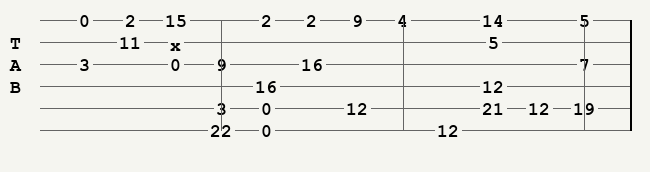0: (79, 12, 94, 28), (170, 56, 185, 72), (261, 100, 276, 116), (261, 122, 276, 138)
11: (119, 34, 145, 50)
12: (346, 100, 372, 116), (437, 122, 463, 138), (482, 78, 508, 94), (528, 100, 554, 116)
14: (482, 12, 508, 28)
15: (165, 12, 191, 28)
16: (255, 78, 281, 94), (301, 56, 327, 72)
19: (573, 100, 599, 116)
2: (125, 12, 140, 28), (261, 12, 276, 28), (306, 12, 321, 28)
21: (482, 100, 508, 116)
22: (210, 122, 236, 138)
3: (79, 56, 94, 72), (216, 100, 231, 116)
4: (397, 12, 412, 28)
5: (488, 34, 503, 50), (579, 12, 594, 28)
7: (579, 56, 594, 72)
9: (216, 56, 231, 72), (352, 12, 367, 28)
x: (170, 36, 185, 48)
